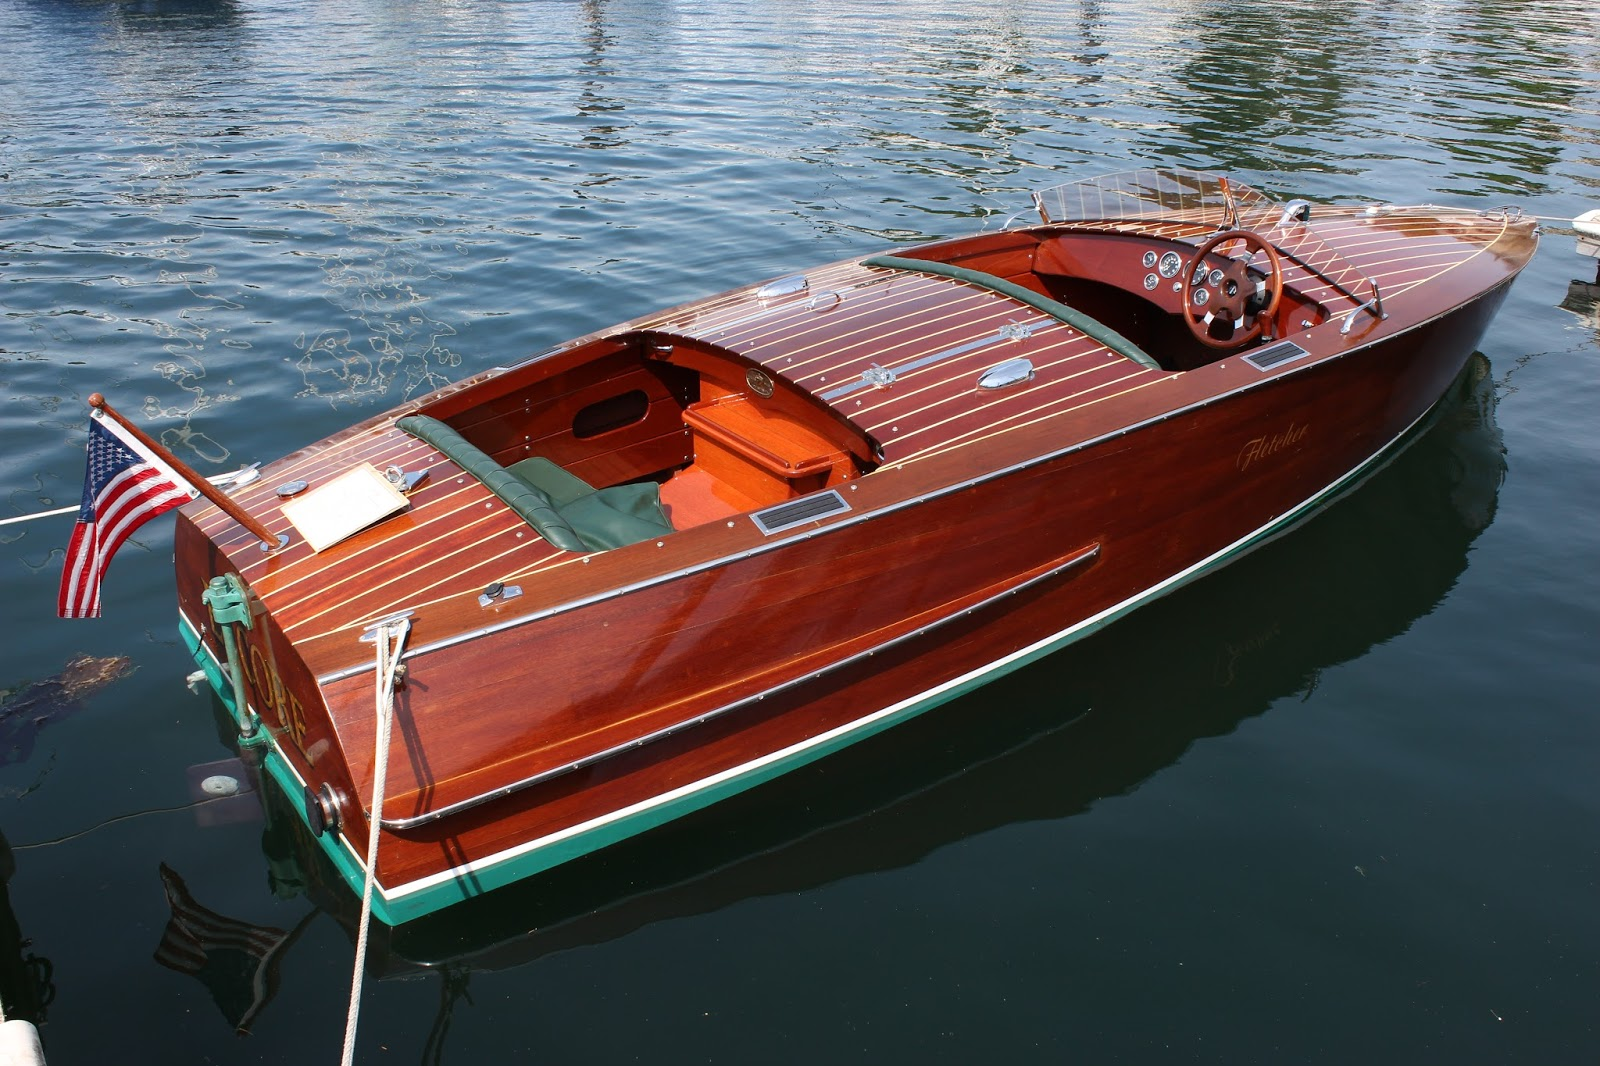boat: (178, 168, 1537, 928)
